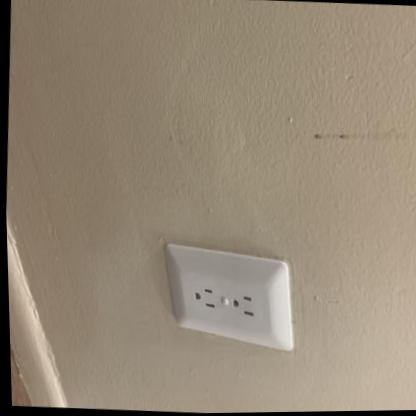OUTLET: (154, 234, 302, 354)
